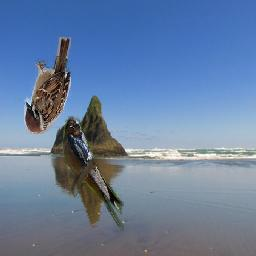Sparrow: (25, 38, 72, 135)
Swallow: (64, 117, 125, 232)
